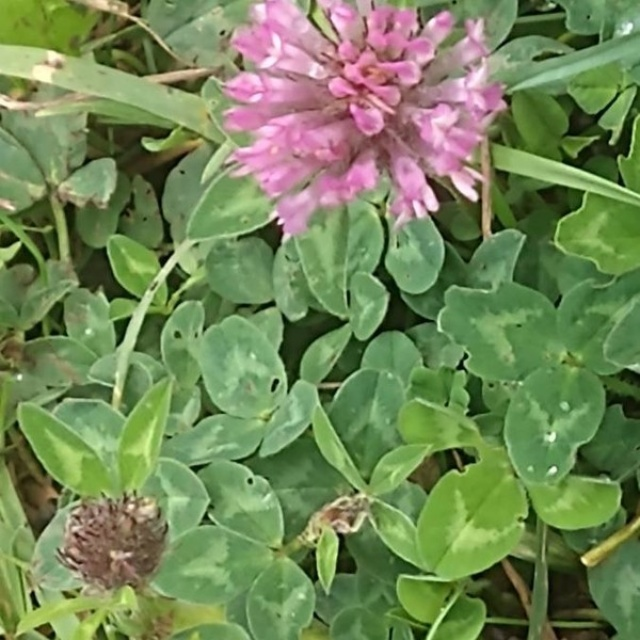obstacle: (151, 252, 575, 553)
